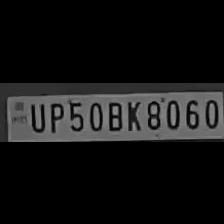0: (86, 97, 104, 130), (163, 96, 181, 128), (202, 96, 220, 128)
5: (64, 98, 84, 132)
6: (181, 96, 199, 128)
8: (142, 96, 162, 130)
B: (105, 97, 123, 130)
K: (123, 97, 143, 130)
P: (45, 97, 63, 132)
U: (26, 100, 44, 132)
